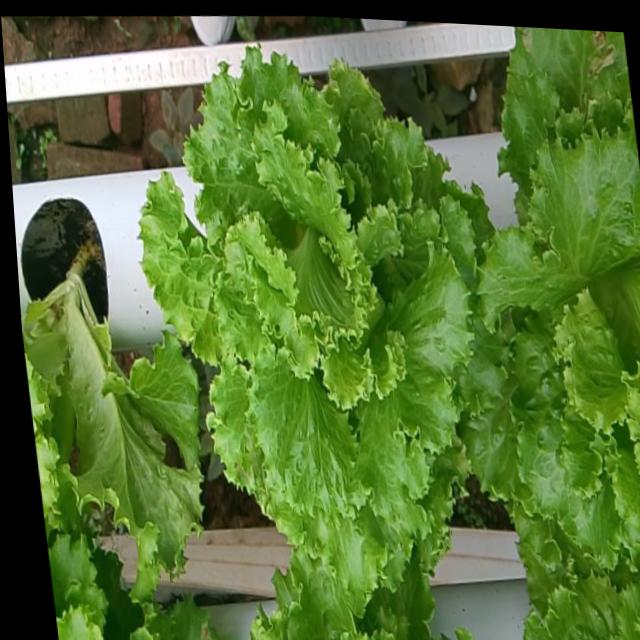Mature: (150, 36, 483, 576), (468, 113, 640, 556)
